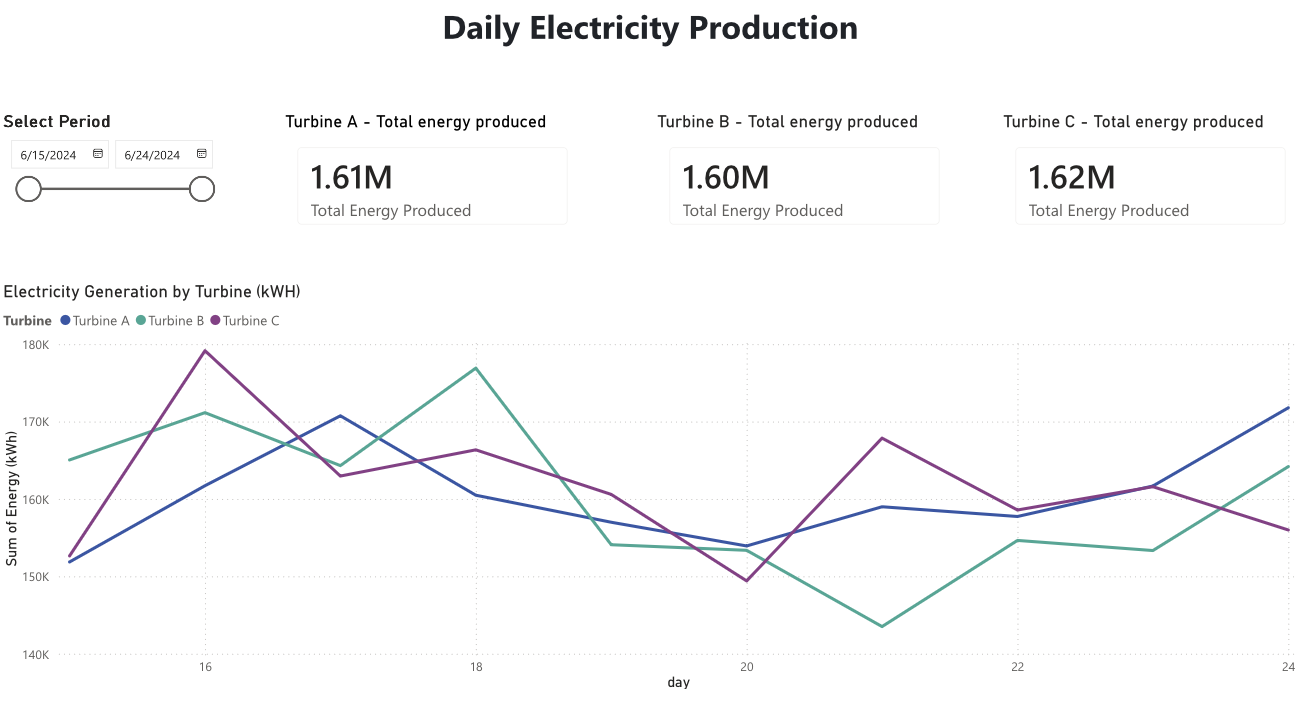

The dashboard page shown, as its layout file describes it:
{"tool":"powerbi","page":{"name":"Page 1","canvas":[1280,720],"ordinal":0},"visuals":[{"type":"textbox","box":[426,0,428,63.1],"z":0},{"type":"cardVisual","title":"Turbine A - Total energy produced ","fields":{"Data":["_Mesures.Total Energy Produced"]},"box":[276.1,114.4,299.8,126.2],"z":1},{"type":"cardVisual","title":"Turbine B - Total energy produced ","fields":{"Data":["_Mesures.Total Energy Produced"]},"box":[641,114.4,299.8,126.2],"z":2},{"type":"cardVisual","title":"Turbine C - Total energy produced ","fields":{"Data":["_Mesures.Total Energy Produced"]},"box":[980.2,114.4,299.8,126.2],"z":3},{"type":"slicer","title":"Select Period","fields":{"Values":["dim_date.date_id"]},"box":[0,114.4,220.9,110.4],"z":4},{"type":"lineChart","title":"Electricity Generation by Turbine (kWH)","fields":{"Category":["dim_date.day"],"Y":["Sum(fact_wind_power.Energy (kWh))"],"Series":["dim_turbine.Turbine"]},"box":[0,280.1,1280,402.3],"z":5}]}

Visuals, with their boxes in screenshot pixels (x1, y1, x2, y2), scaled from the page's 1280x720 canvas onto the 1302x718 screenshot:
textbox: [x1=433, y1=0, x2=869, y2=63]
"Turbine A - Total energy produced " cardVisual: [x1=281, y1=114, x2=586, y2=240]
"Turbine B - Total energy produced " cardVisual: [x1=652, y1=114, x2=957, y2=240]
"Turbine C - Total energy produced " cardVisual: [x1=997, y1=114, x2=1301, y2=240]
"Select Period" slicer: [x1=0, y1=114, x2=225, y2=224]
"Electricity Generation by Turbine (kWH)" lineChart: [x1=0, y1=279, x2=1301, y2=681]
